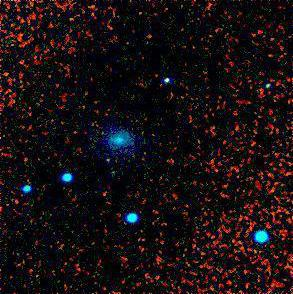star: (94, 146, 124, 176)
